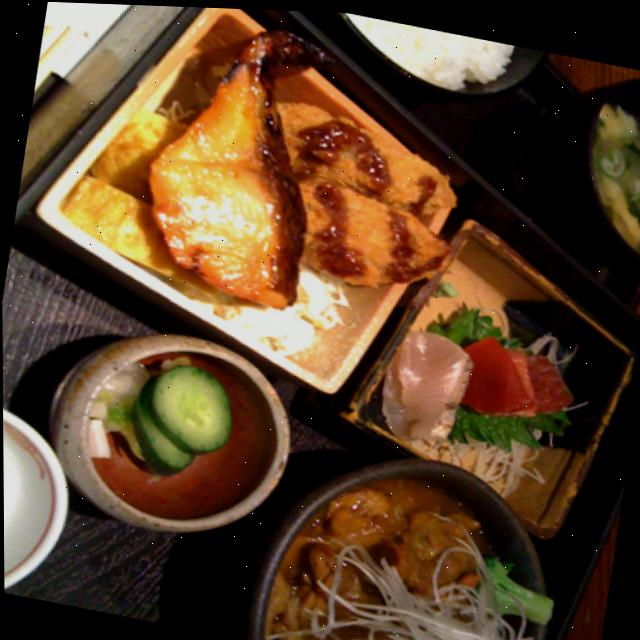熟制海鲜: (135, 20, 346, 304)
